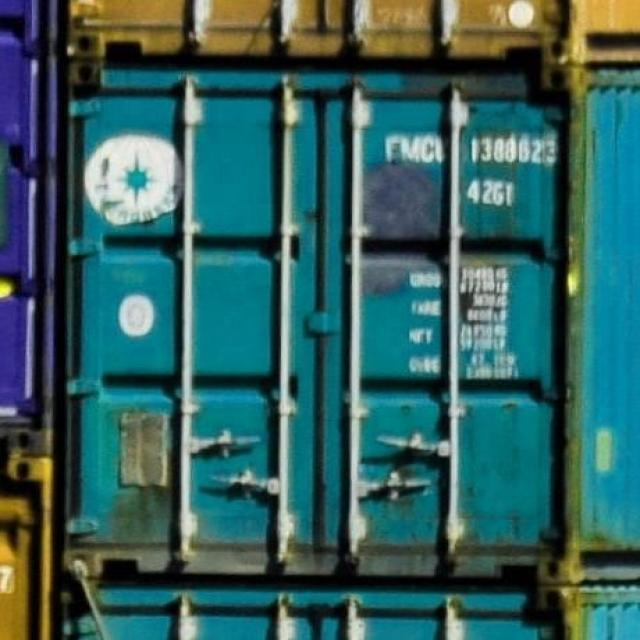ISO: (467, 176, 515, 208)
container_number: (384, 134, 552, 164)
